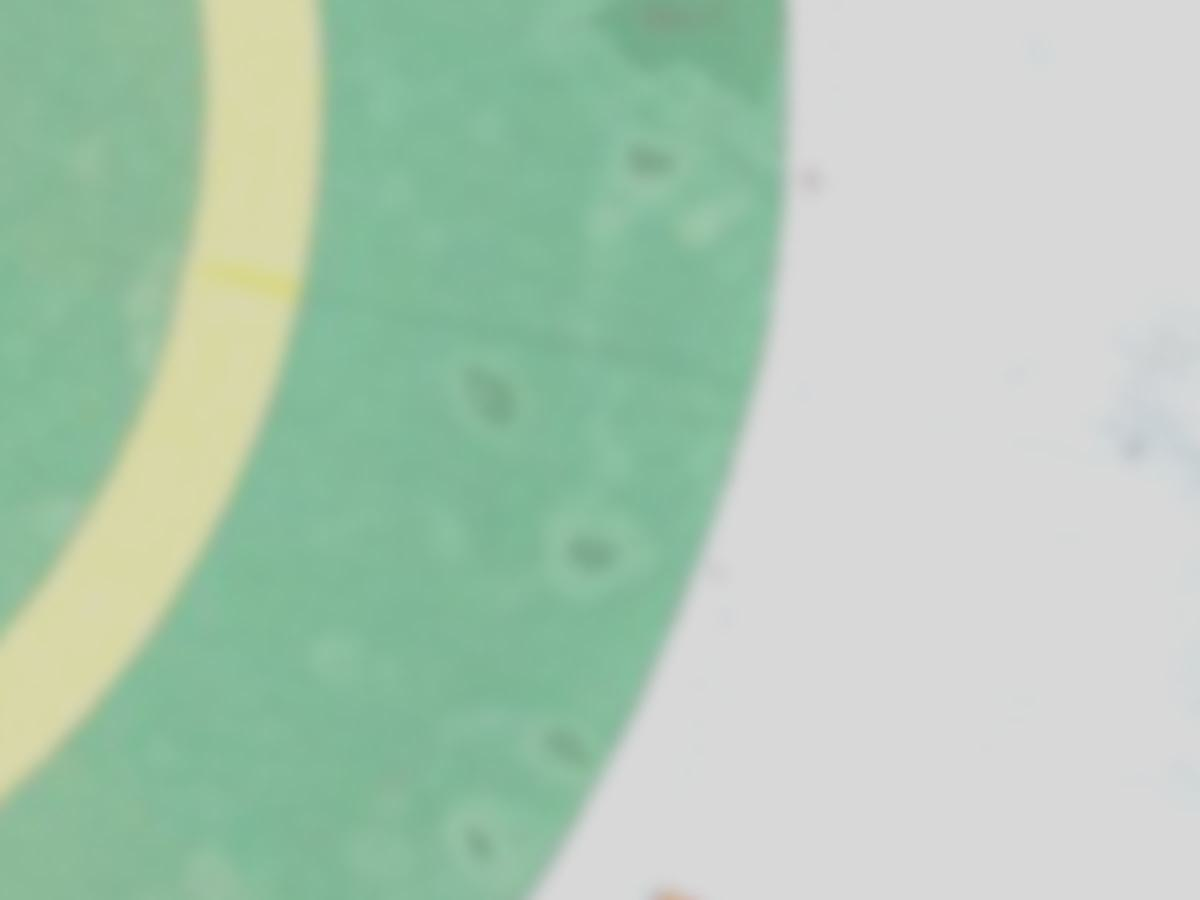Apron: (1, 1, 345, 852)
